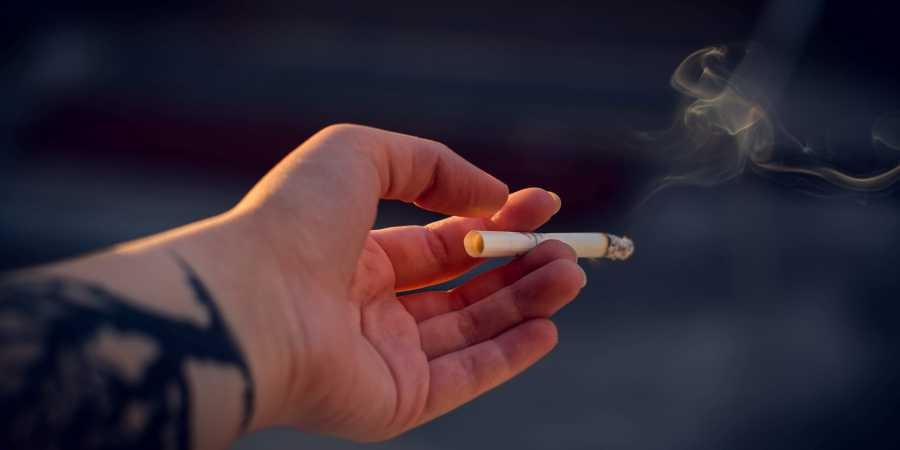sigaretta: (456, 230, 652, 267)
